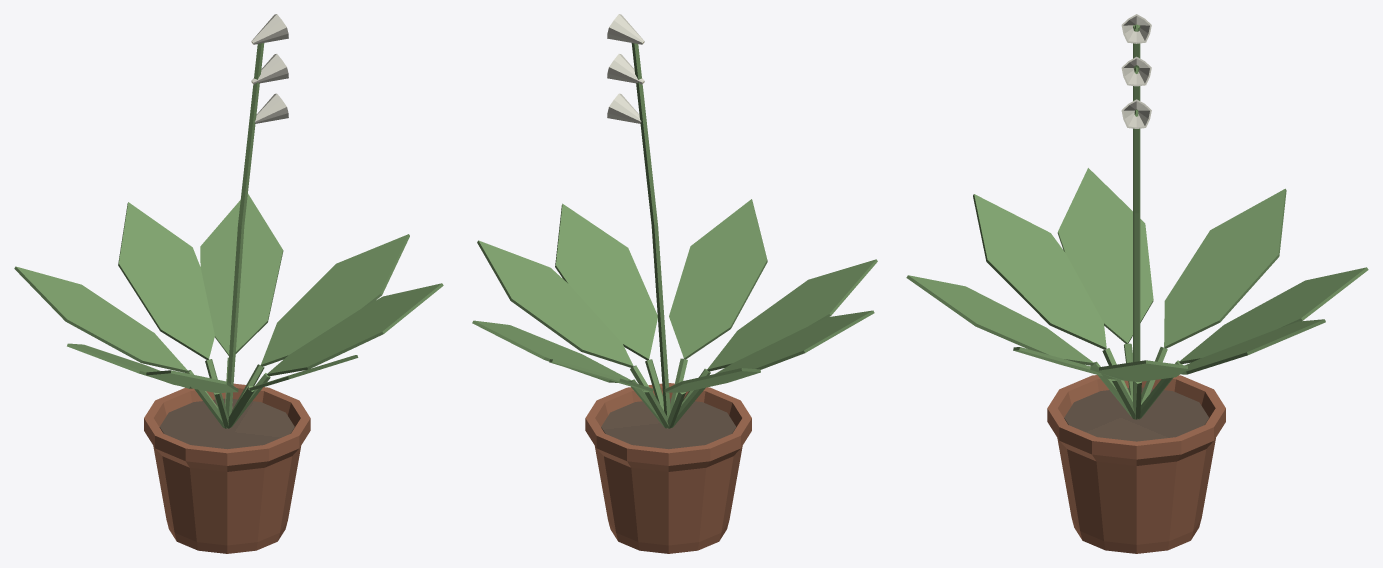
The model's file is hosta.glb.
3 renders of one model, left to right at view 1: azimuth 30°, elevation 25°; view 2: azimuth 150°, elevation 25°; view 3: azimuth 270°, elevation 25°, orthographic. The views are drawn at different scales.
Visible parts, largest first — view 1: hosta/review-terra-vessel, hosta/leaf-002, hosta/leaf-012, hosta/leaf-006, hosta/leaf-008, hosta/leaf-016, hosta/review-rooted-soil, hosta/stem-017, hosta/leaf-004, hosta/leaf-014, hosta/hollow-corolla-019, hosta/hollow-corolla-025 (+1 smaller); view 2: hosta/review-terra-vessel, hosta/leaf-010, hosta/leaf-016, hosta/leaf-006, hosta/leaf-004, hosta/review-rooted-soil, hosta/leaf-014, hosta/stem-017, hosta/leaf-012, hosta/leaf-008, hosta/hollow-corolla-019, hosta/hollow-corolla-025 (+2 smaller); view 3: hosta/review-terra-vessel, hosta/leaf-008, hosta/leaf-014, hosta/leaf-004, hosta/review-rooted-soil, hosta/leaf-002, hosta/leaf-010, hosta/stem-017, hosta/leaf-012, hosta/leaf-006, hosta/leaf-016, hosta/hollow-corolla-025 (+2 smaller).
Boxes of the visible parts, bbox=[...] form: hosta/review-terra-vessel: bbox=[144, 383, 310, 553]; hosta/leaf-002: bbox=[118, 202, 214, 359]; hosta/leaf-012: bbox=[200, 194, 283, 355]; hosta/leaf-006: bbox=[261, 234, 409, 366]; hosta/leaf-008: bbox=[14, 266, 187, 372]; hosta/leaf-016: bbox=[267, 283, 443, 376]; hosta/review-rooted-soil: bbox=[159, 398, 294, 449]; hosta/stem-017: bbox=[225, 43, 264, 417]; hosta/leaf-004: bbox=[146, 370, 238, 392]; hosta/leaf-014: bbox=[67, 343, 192, 388]; hosta/hollow-corolla-019: bbox=[251, 14, 288, 44]; hosta/hollow-corolla-025: bbox=[254, 93, 288, 123]; hosta/review-terra-vessel: bbox=[585, 383, 751, 553]; hosta/leaf-010: bbox=[669, 199, 767, 359]; hosta/leaf-016: bbox=[555, 203, 657, 360]; hosta/leaf-006: bbox=[477, 240, 633, 367]; hosta/leaf-004: bbox=[707, 259, 877, 371]; hosta/review-rooted-soil: bbox=[601, 398, 736, 449]; hosta/leaf-014: bbox=[715, 310, 874, 373]; hosta/stem-017: bbox=[631, 43, 670, 418]; hosta/leaf-012: bbox=[472, 320, 632, 382]; hosta/leaf-008: bbox=[664, 368, 760, 392]; hosta/hollow-corolla-019: bbox=[607, 14, 644, 44]; hosta/hollow-corolla-025: bbox=[607, 93, 641, 123]; hosta/review-terra-vessel: bbox=[1047, 375, 1225, 553]; hosta/leaf-008: bbox=[1164, 188, 1286, 348]; hosta/leaf-014: bbox=[1057, 168, 1153, 343]; hosta/leaf-004: bbox=[973, 194, 1106, 349]; hosta/review-rooted-soil: bbox=[1064, 387, 1208, 441]; hosta/leaf-002: bbox=[1179, 267, 1368, 363]; hosta/leaf-010: bbox=[906, 275, 1094, 365]; hosta/stem-017: bbox=[1133, 24, 1140, 402]; hosta/leaf-012: bbox=[1181, 319, 1325, 374]; hosta/leaf-006: bbox=[1099, 360, 1187, 381]; hosta/leaf-016: bbox=[1013, 347, 1123, 380]; hosta/hollow-corolla-025: bbox=[1121, 99, 1151, 128].
Size of the model in its own units: 0.488 by 0.6331 by 0.4915.
Materials: 5 (5 with a texture image).
